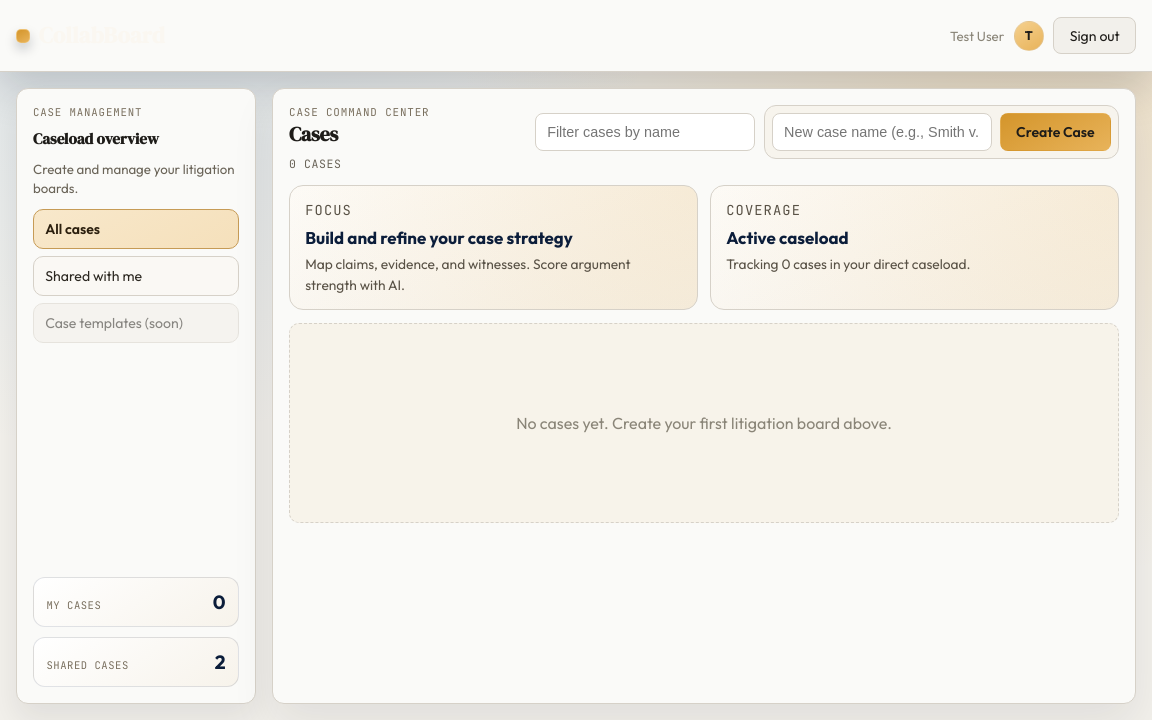
Test: Dashboard › filters shared cases across both shared sections
This screenshot has width=1152, height=720.
Click the button "Shared with me" at (136, 276), box [33, 256, 239, 296]
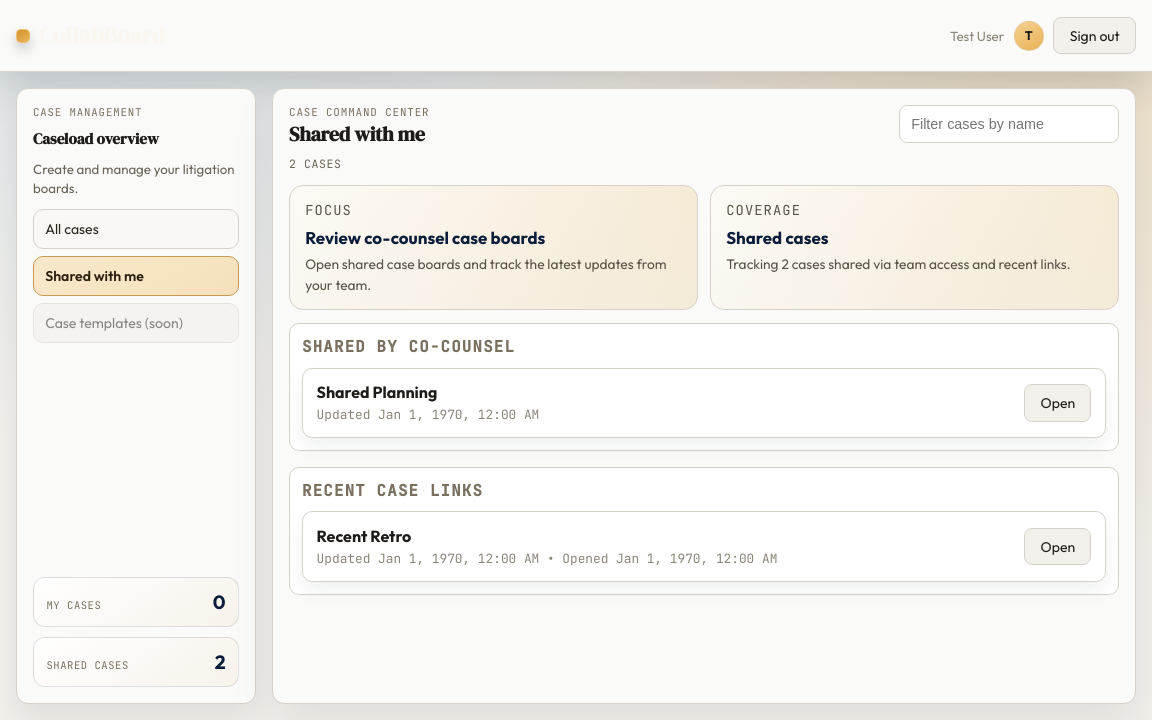
Type "retro" into the field with placeholder "Filter cases by name" at (1009, 124), box [899, 105, 1119, 143]
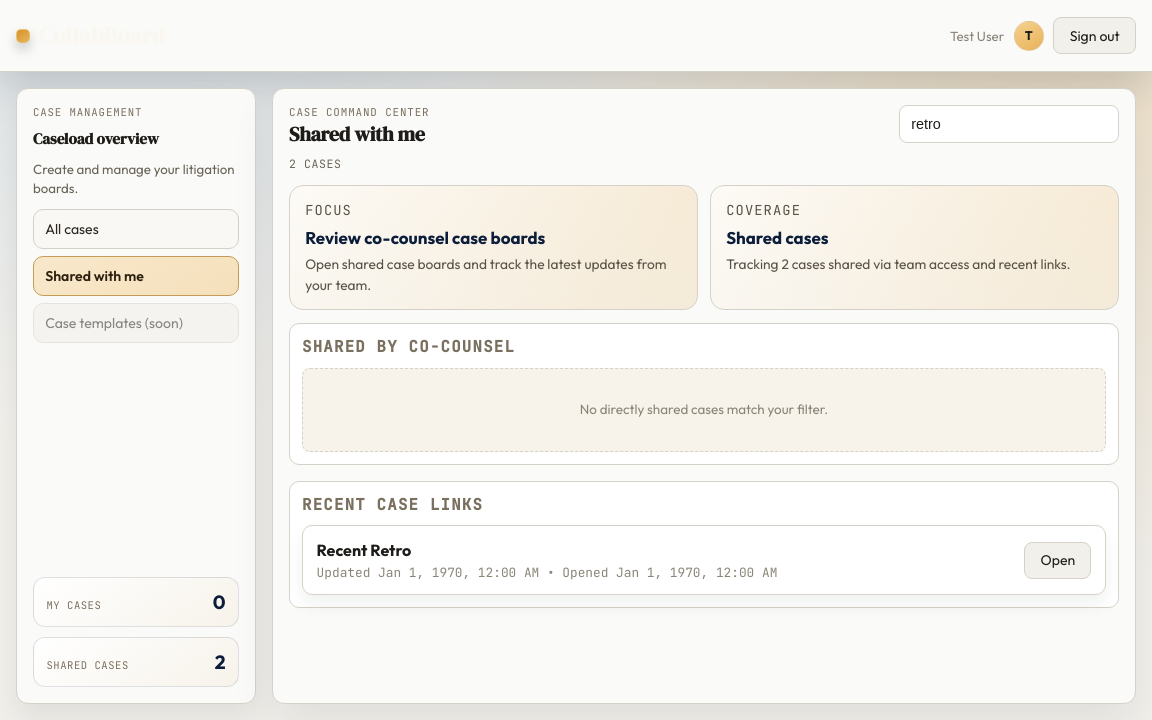
Now the heading "Recent Retro" is shown, box [317, 540, 411, 560]
Now the heading "Shared Planning" is gone
Now the text "No directly shared cases match your filter." is shown, box [302, 368, 1106, 452]
